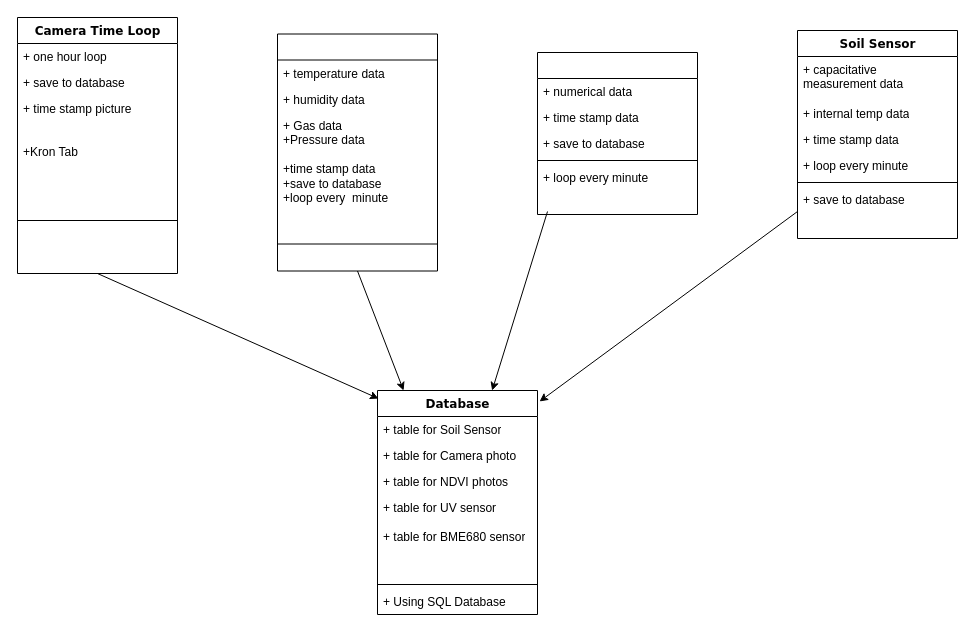
Image size: 975x635. Some labels were removed from this diagram. Each missing label, with the box of its shape:
Adafruit BME680: (276, 33, 438, 271)
VEML6070 UV sensor: (536, 52, 698, 214)
